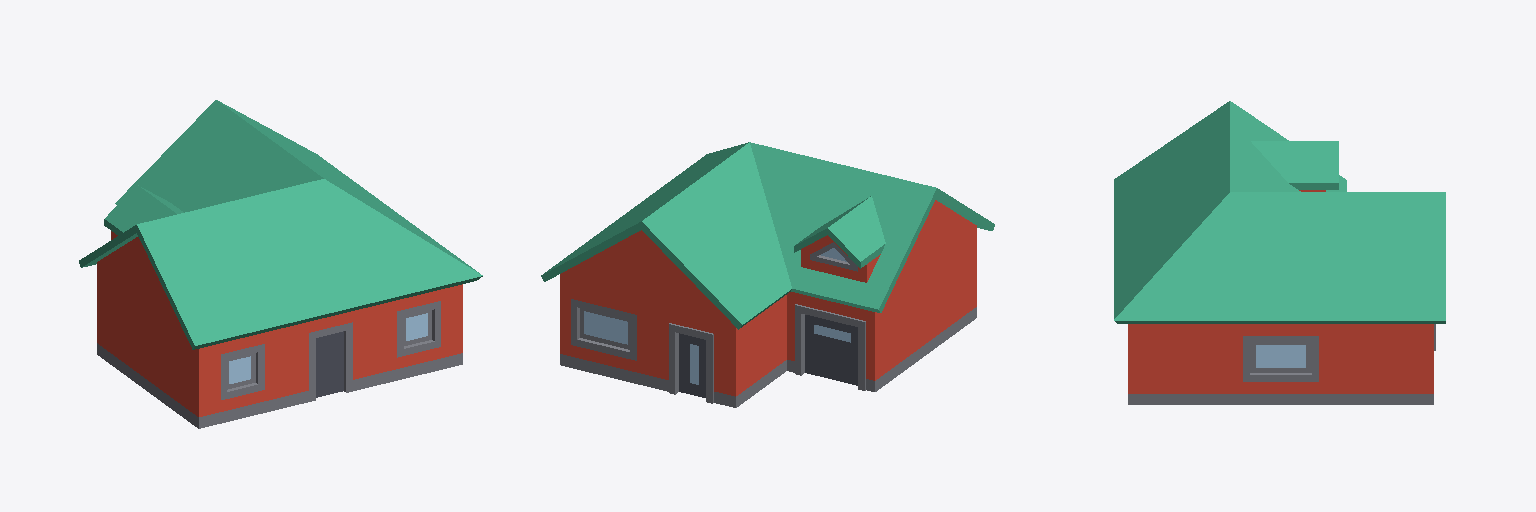
The model's file is city_house_b.obj.
3 views of the same model, side by side, from view 1: azimuth 30°, elevation 25°; view 2: azimuth 150°, elevation 25°; view 3: azimuth 270°, elevation 25° (orthographic).
Parts seen in each view (by area): view 1: mergedBlocks; view 2: mergedBlocks; view 3: mergedBlocks.
Boxes of the visible parts, box(x1,y1,x2,y2) form: mergedBlocks: box(79, 100, 482, 428); mergedBlocks: box(541, 142, 994, 407); mergedBlocks: box(1114, 101, 1445, 404).
Size of the model in its own units: 0.9418 by 0.531 by 0.9418.